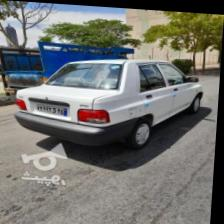plate: (38, 103, 70, 116)
